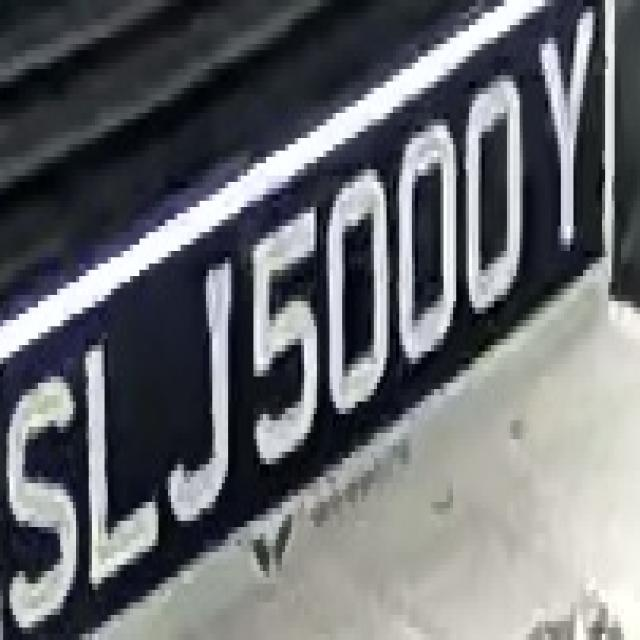0: (330, 144, 399, 433), (453, 69, 526, 333), (396, 113, 456, 395)
5: (244, 201, 329, 489)
J: (165, 238, 241, 546)
L: (76, 320, 165, 584)
S: (3, 332, 85, 640)
Y: (526, 25, 611, 257)
